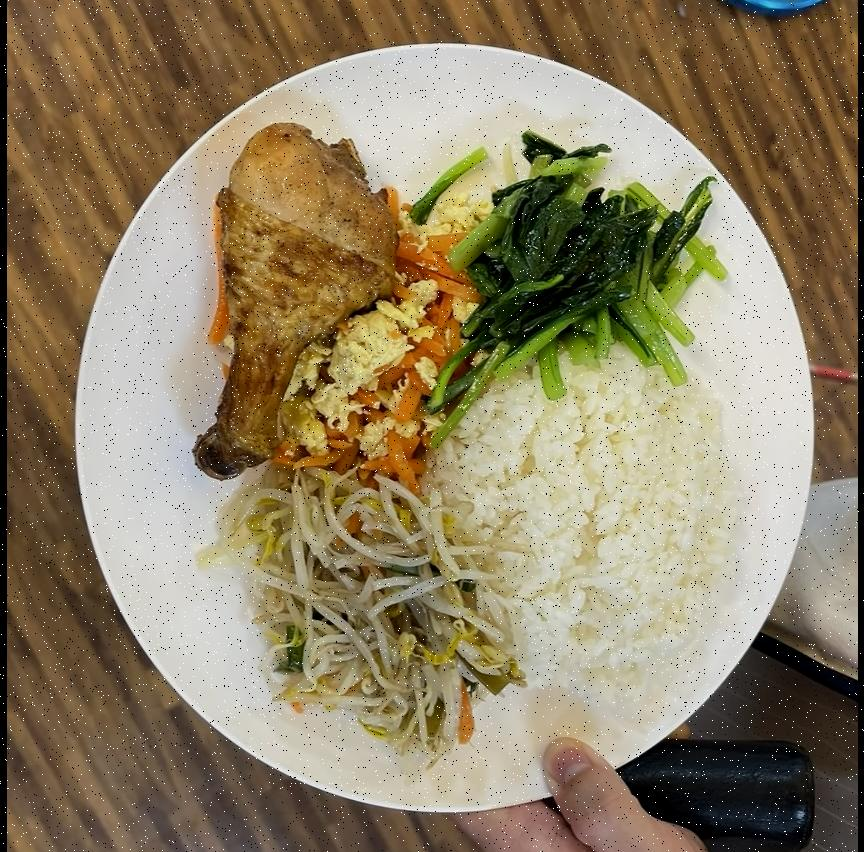plate: (61, 46, 820, 826)
side dish: (238, 464, 504, 756), (462, 126, 724, 392), (280, 190, 482, 468)
small grilled chicken leg: (192, 119, 398, 477)
white rice: (440, 355, 750, 686)
